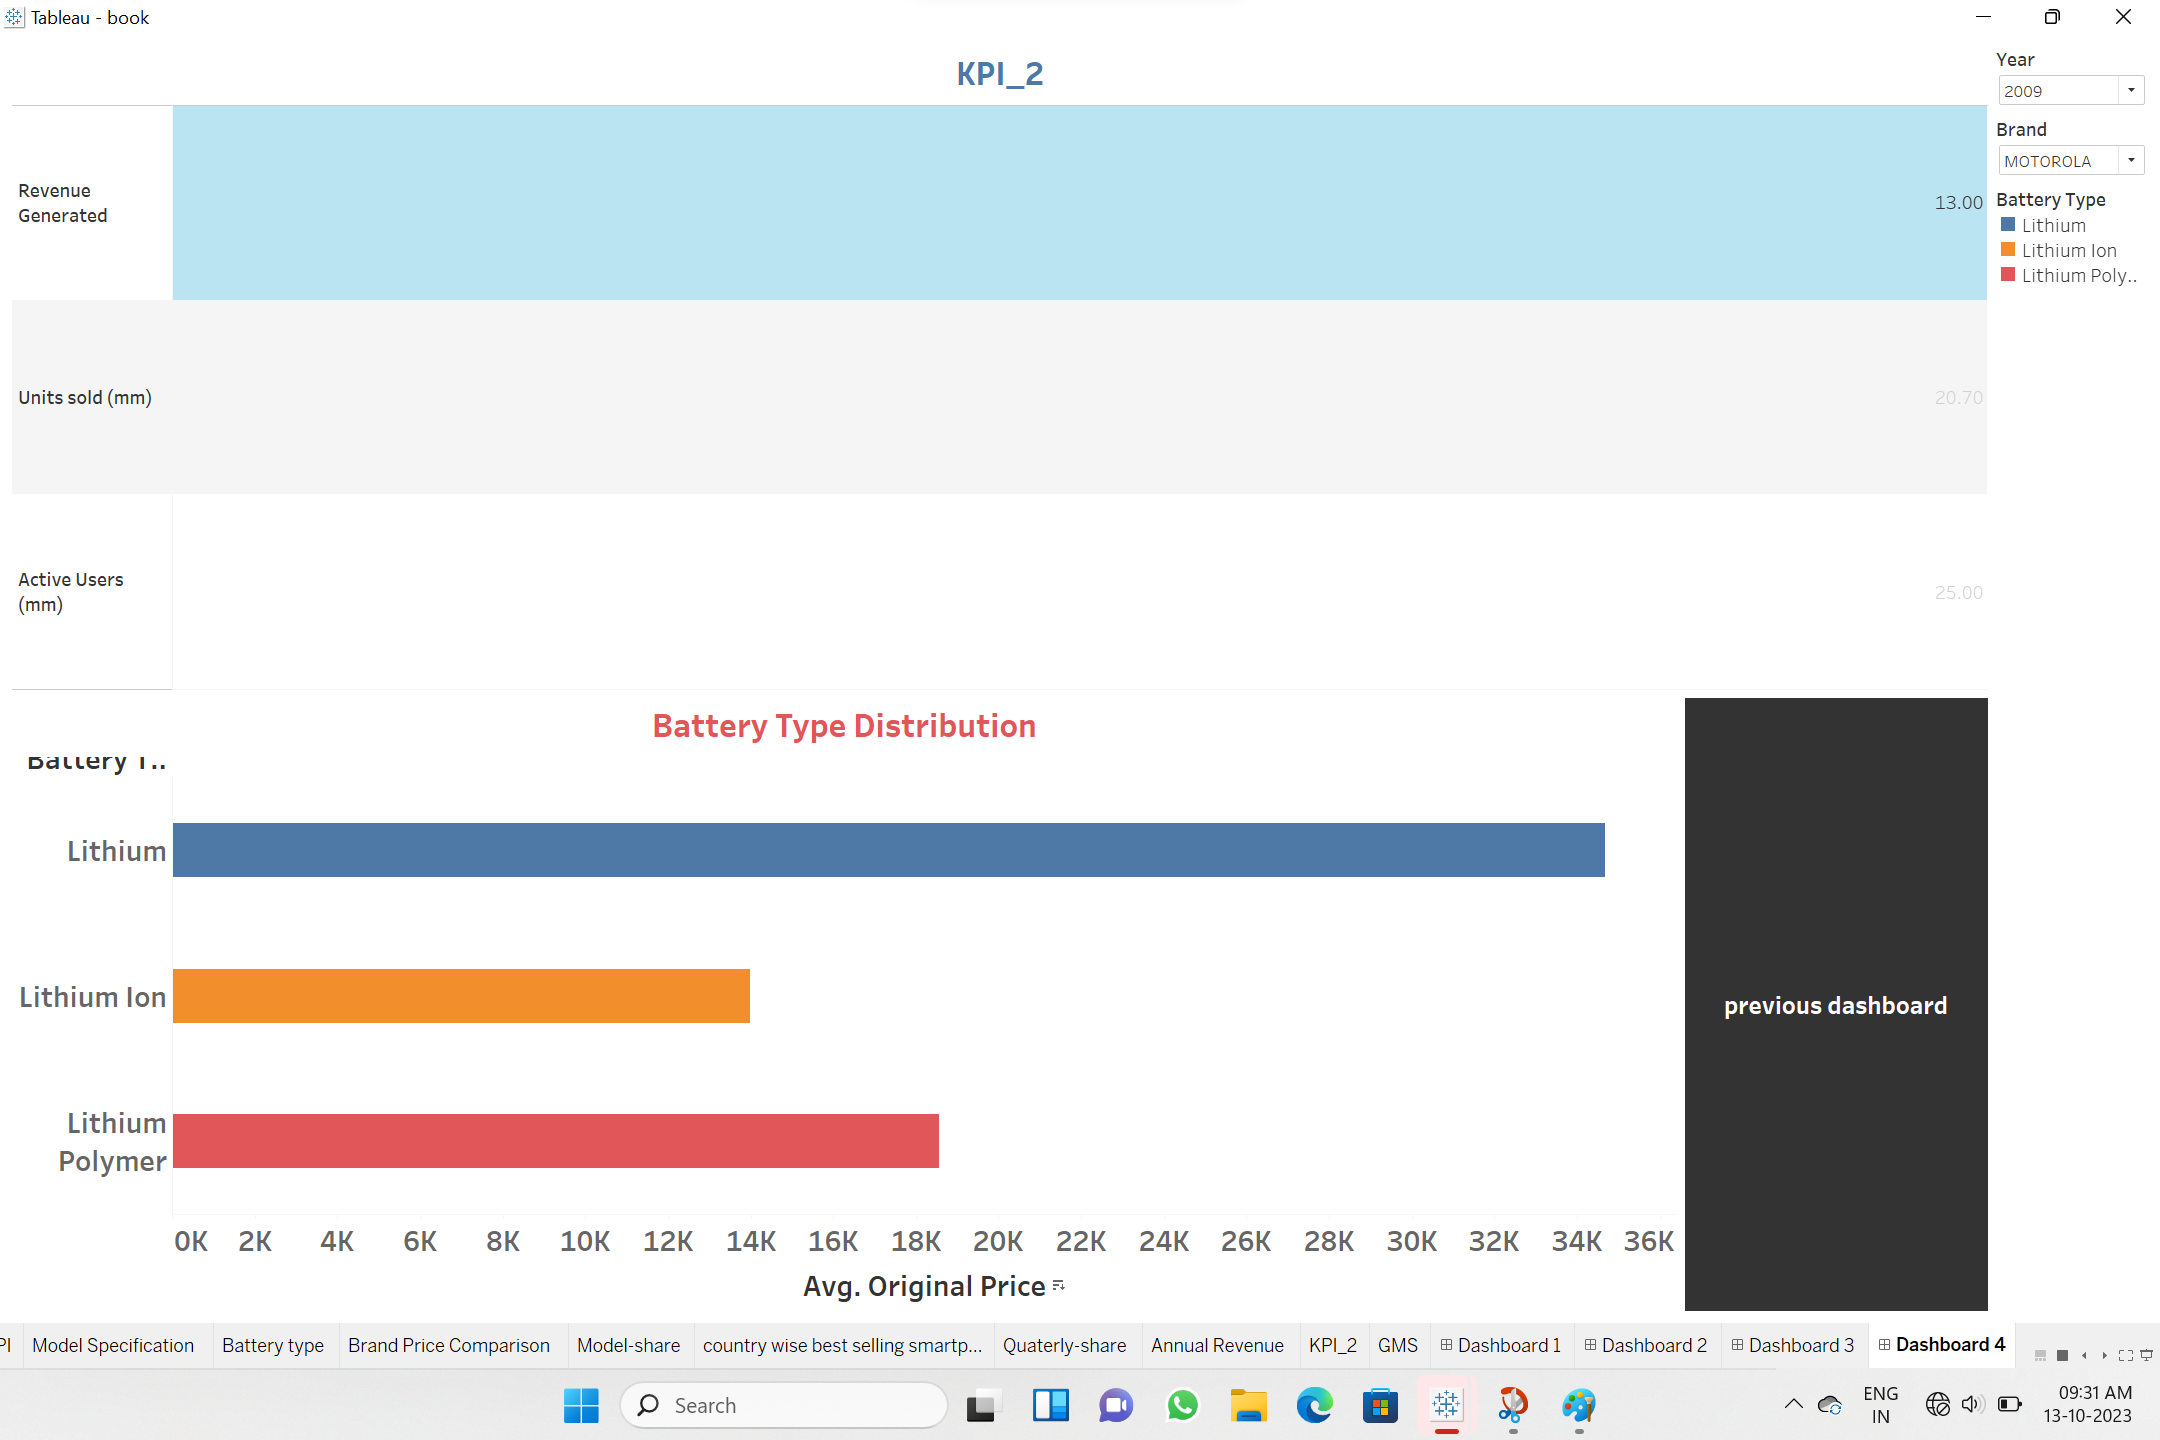

Layout of this report page (visuals, bound fields, positions):
{"tool":"tableau","page":{"name":"Dashboard 4","canvas":[1000,1000],"units":"permille","ordinal":3},"visuals":[{"type":"worksheet","title":"KPI_2","mark":"Automatic","box":[4.3,6.9,904.6,505.2]},{"type":"filter","title":"KPI_2","param":"[federated.1w6a8jt0kc6y4b1f9rpt71ybbnml].[none:Year:ok]","box":[908.9,6.9,86.8,60]},{"type":"filter","title":"Battery type","param":"[federated.0iqjv8w0qiwri211vwyue11ahui3].[none:brand:nk]","box":[908.9,66.9,86.8,60]},{"type":"legend","title":"Battery type","param":"[federated.0iqjv8w0qiwri211vwyue11ahui3].[none:battery_type:nk]","box":[908.9,126.9,86.8,93.5]},{"type":"worksheet","title":"Battery type","mark":"Automatic","rows":["battery_type"],"cols":["original_price"],"box":[4.3,512,762.7,481.1]},{"type":"dashboard-object","box":[767,512,141.9,481.1]}]}

Visuals, with their boxes on the dashboard's canvas, which has no fixed pixel size, in thousandths of its width and height (x1, y1, x2, y2). These are canvas units, not pixel positions in the 2160x1440 screenshot, which may show the page scaled, cropped or inside an application window:
"KPI_2" worksheet: {"left": 4, "top": 7, "right": 909, "bottom": 512}
"KPI_2" filter: {"left": 909, "top": 7, "right": 996, "bottom": 67}
"Battery type" filter: {"left": 909, "top": 67, "right": 996, "bottom": 127}
"Battery type" legend: {"left": 909, "top": 127, "right": 996, "bottom": 220}
"Battery type" worksheet: {"left": 4, "top": 512, "right": 767, "bottom": 993}
dashboard-object: {"left": 767, "top": 512, "right": 909, "bottom": 993}
